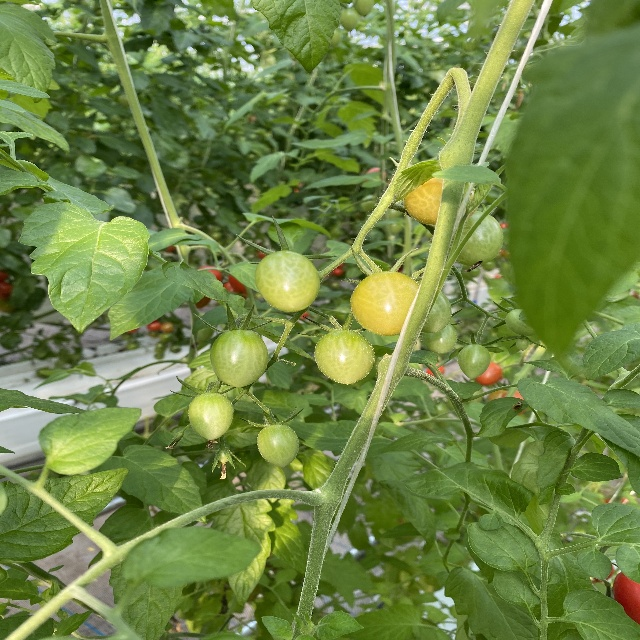l_fully_ripened: (613, 571, 640, 625), (475, 361, 502, 385)
l_green: (254, 249, 321, 312), (211, 329, 270, 388), (314, 329, 374, 385), (450, 207, 504, 267), (188, 391, 235, 440), (257, 424, 300, 467), (422, 290, 453, 333), (458, 342, 491, 379), (421, 324, 458, 353), (505, 309, 536, 335), (515, 338, 529, 351), (217, 450, 229, 464)
l_half_ripened: (350, 271, 420, 337), (402, 177, 443, 226)
